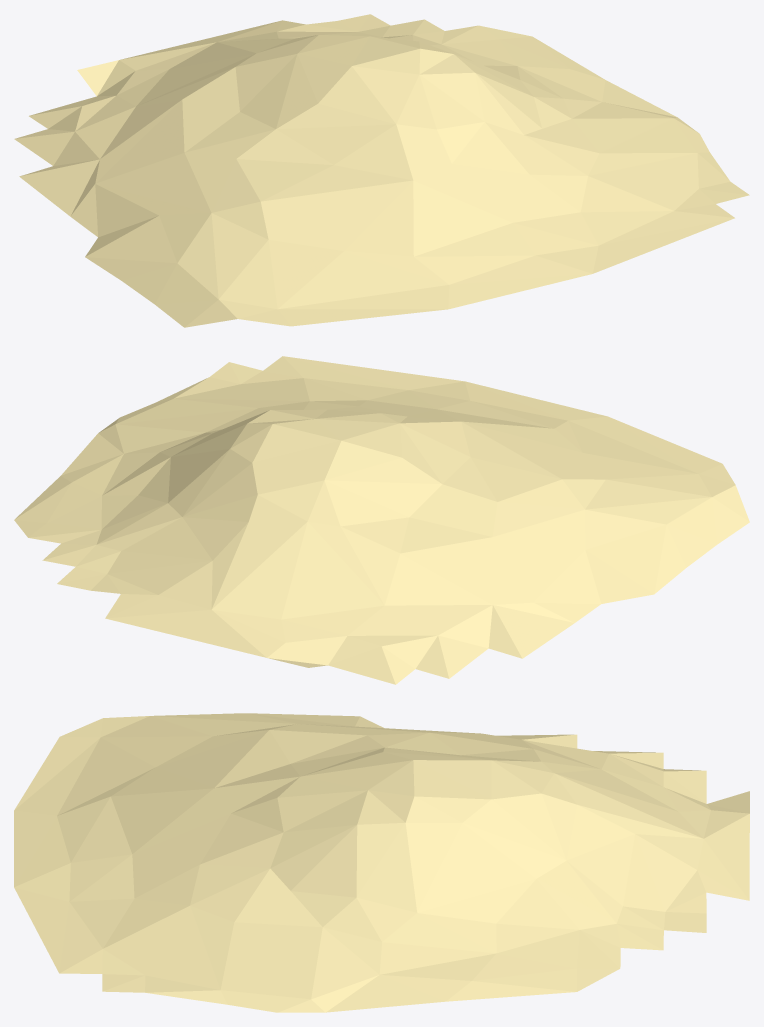
Rendered from Hill_s_01.fbx.
3 views of the same model, one above another, from view 1: azimuth 30°, elevation 25°; view 2: azimuth 150°, elevation 25°; view 3: azimuth 270°, elevation 25° (orthographic). The views are drawn at different scales.
Visible parts, largest first — view 1: Hill_s_01; view 2: Hill_s_01; view 3: Hill_s_01.
Boxes of the visible parts, x1,y1,x2,y2 form: Hill_s_01: (14,14,749,327); Hill_s_01: (14,356,749,684); Hill_s_01: (14,713,749,1012).
Size of the model in its own units: 2634 by 460 by 2664.
